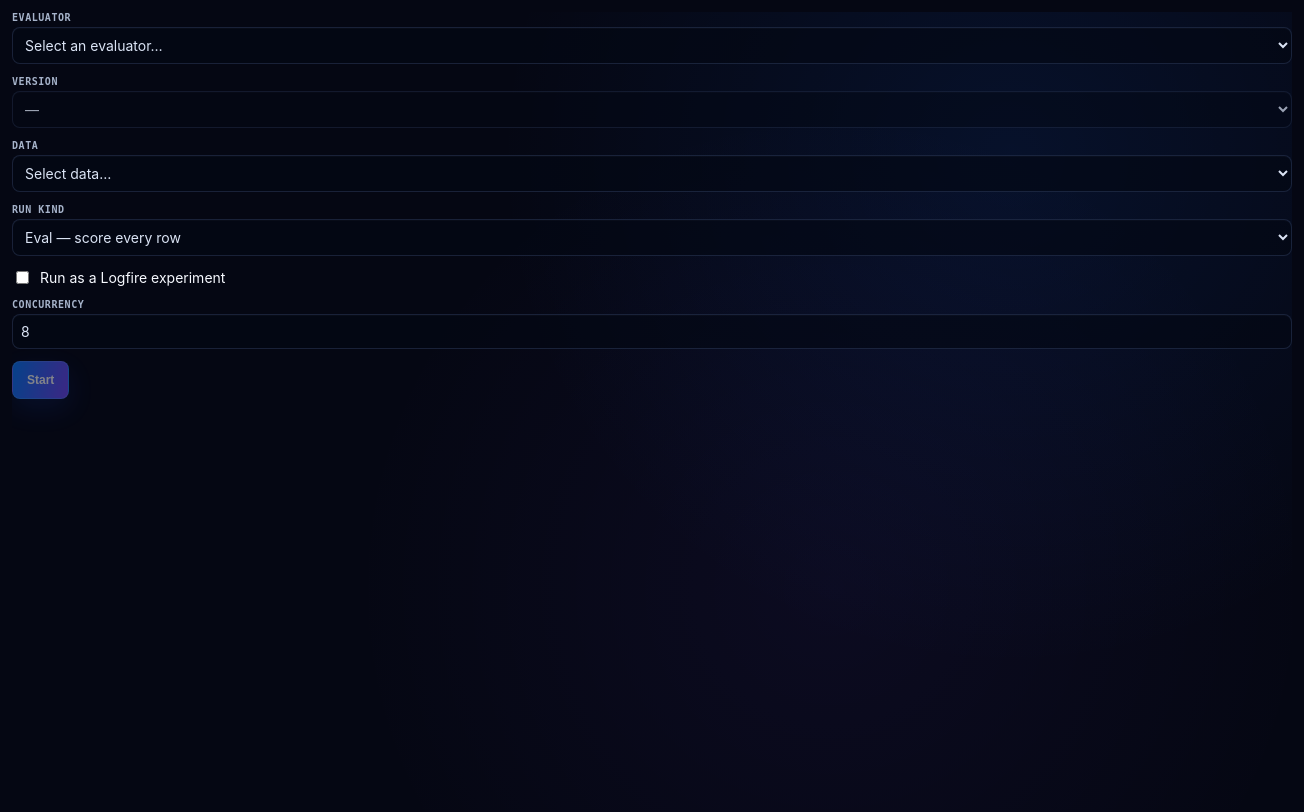
RunLauncher › disables Start until a version and a dataset are selected
Check: the button "Start" is disabled, box top-left (12, 361), bottom-right (69, 399)
Select "My evaluator" in the dropdown labelled "Evaluator". click: [652, 46]
box: top-left (12, 27), bottom-right (1292, 64)
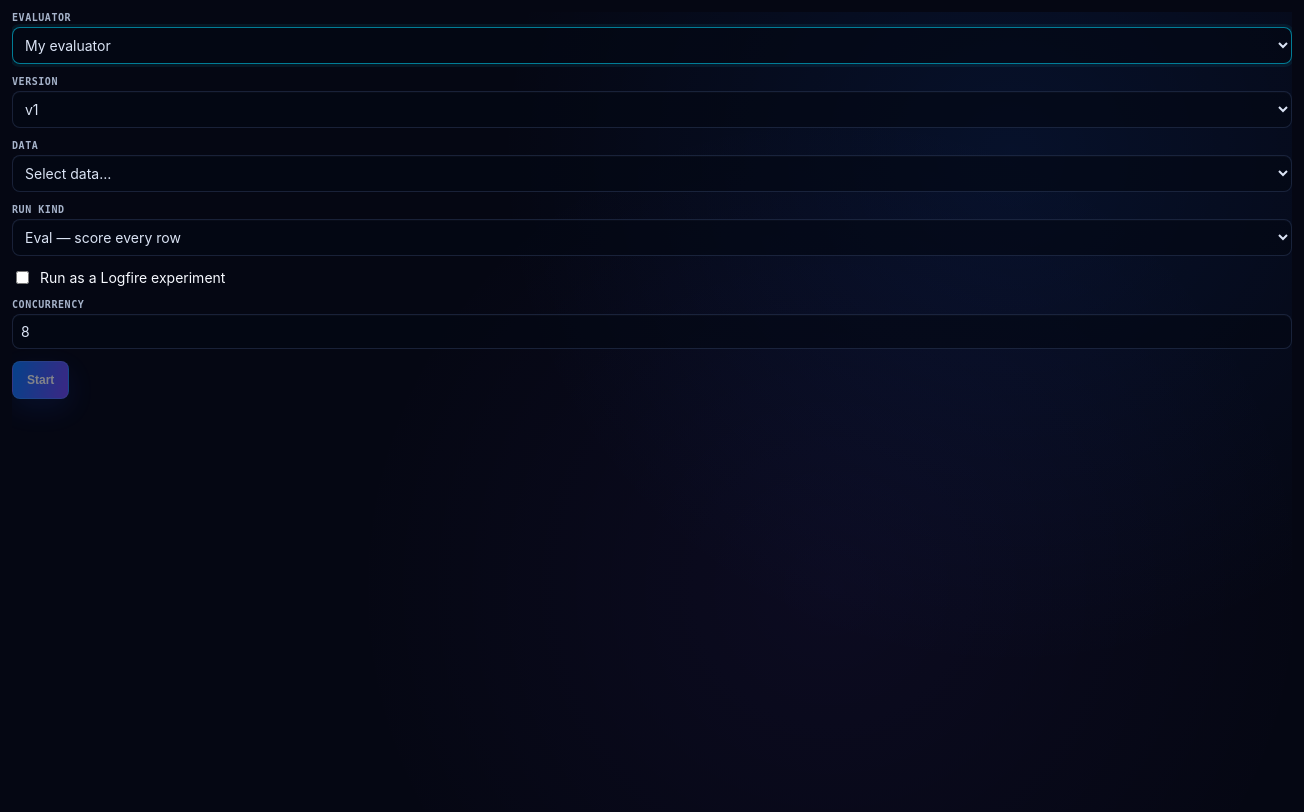
Check: the dropdown labelled "Version" is enabled, box top-left (12, 91), bottom-right (1292, 128)
Select "My dataset — answer" in the dropdown labelled "Data". click: [652, 174]
box: top-left (12, 155), bottom-right (1292, 192)
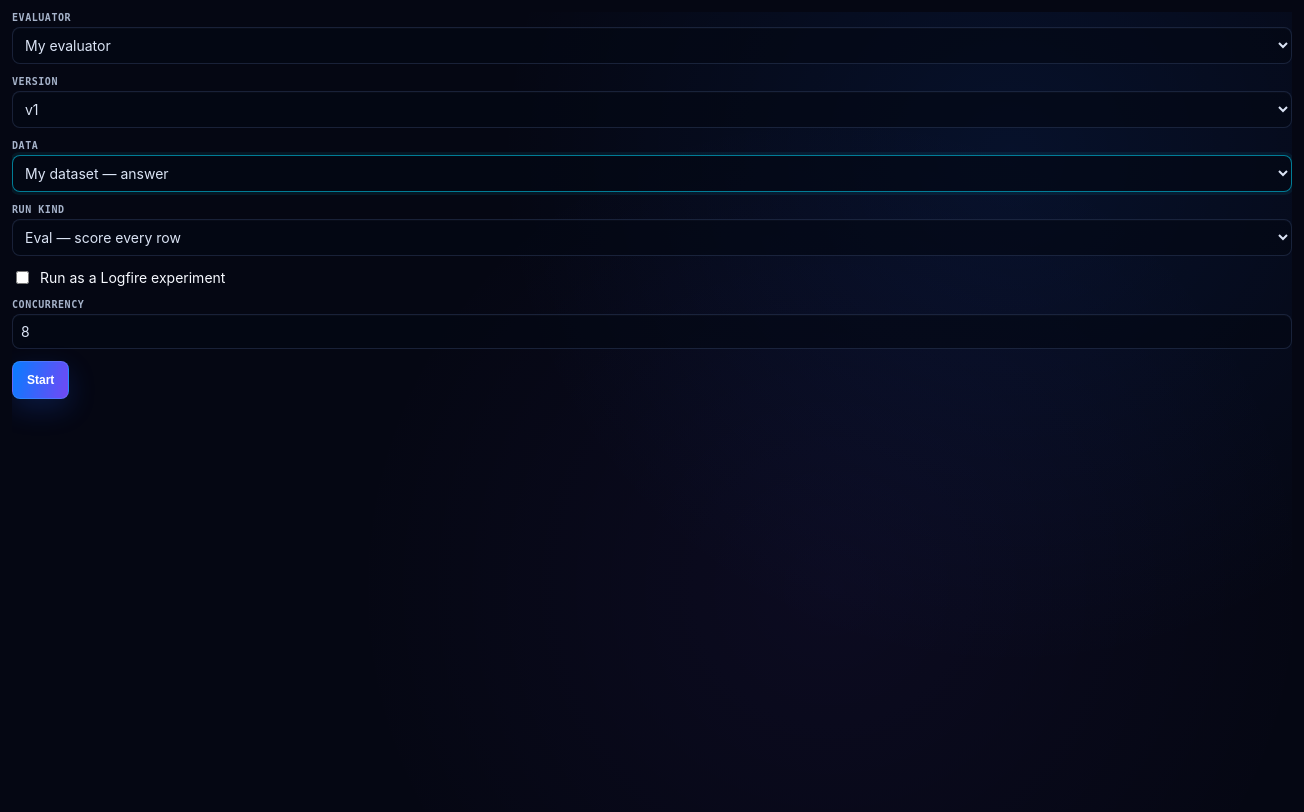
Check: the button "Start" is enabled, box top-left (12, 361), bottom-right (69, 399)
